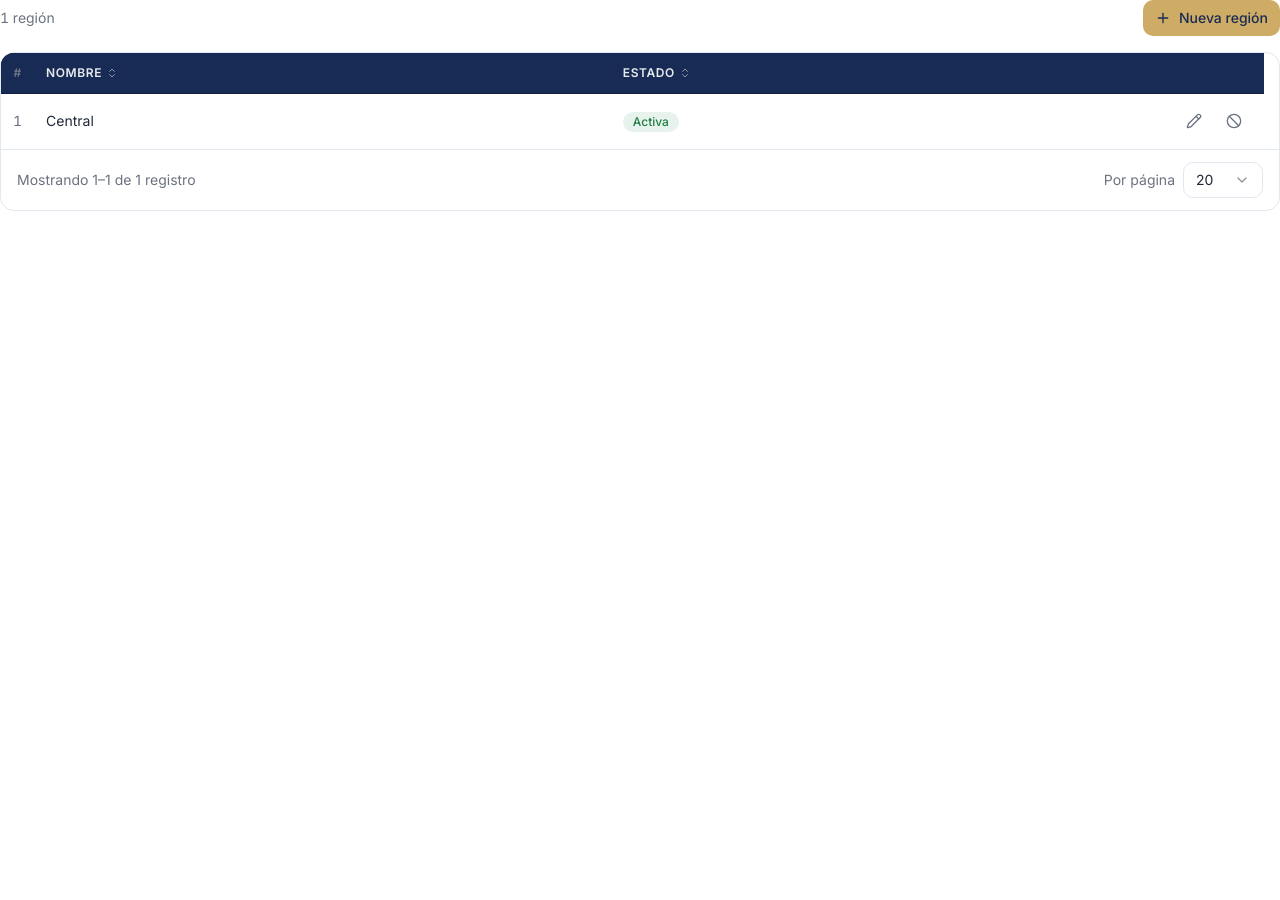
Test: GestionRegiones › edita la región, refresca la lista y cierra el modal
Click the button named "Editar" at (1194, 121), box [1176,103,1212,139]
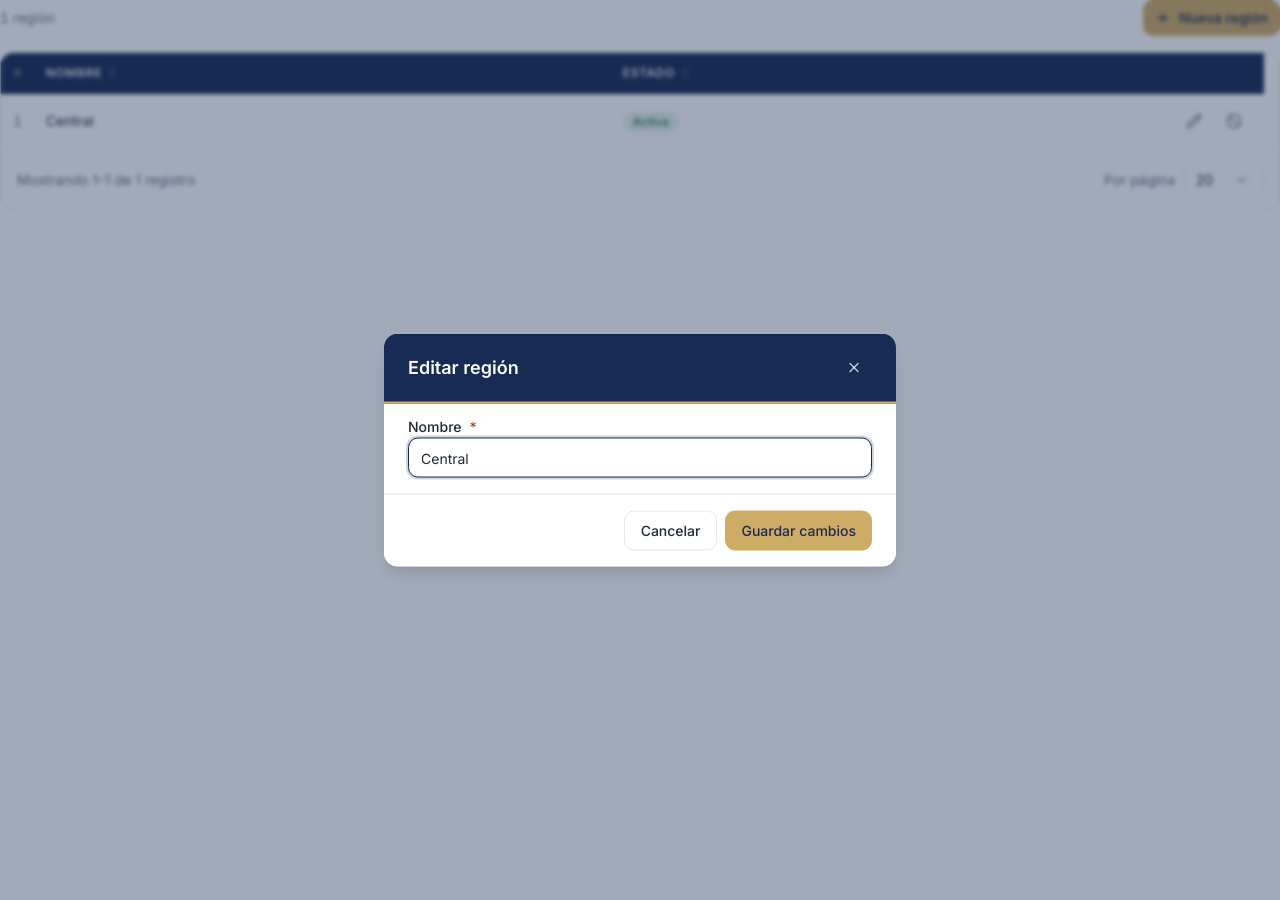
Result: the field labelled "Nombre *" holds "Central"
Replace the text in the field labelled "Nombre *" with "Central Norte" at (640, 458), box [408,438,872,478]
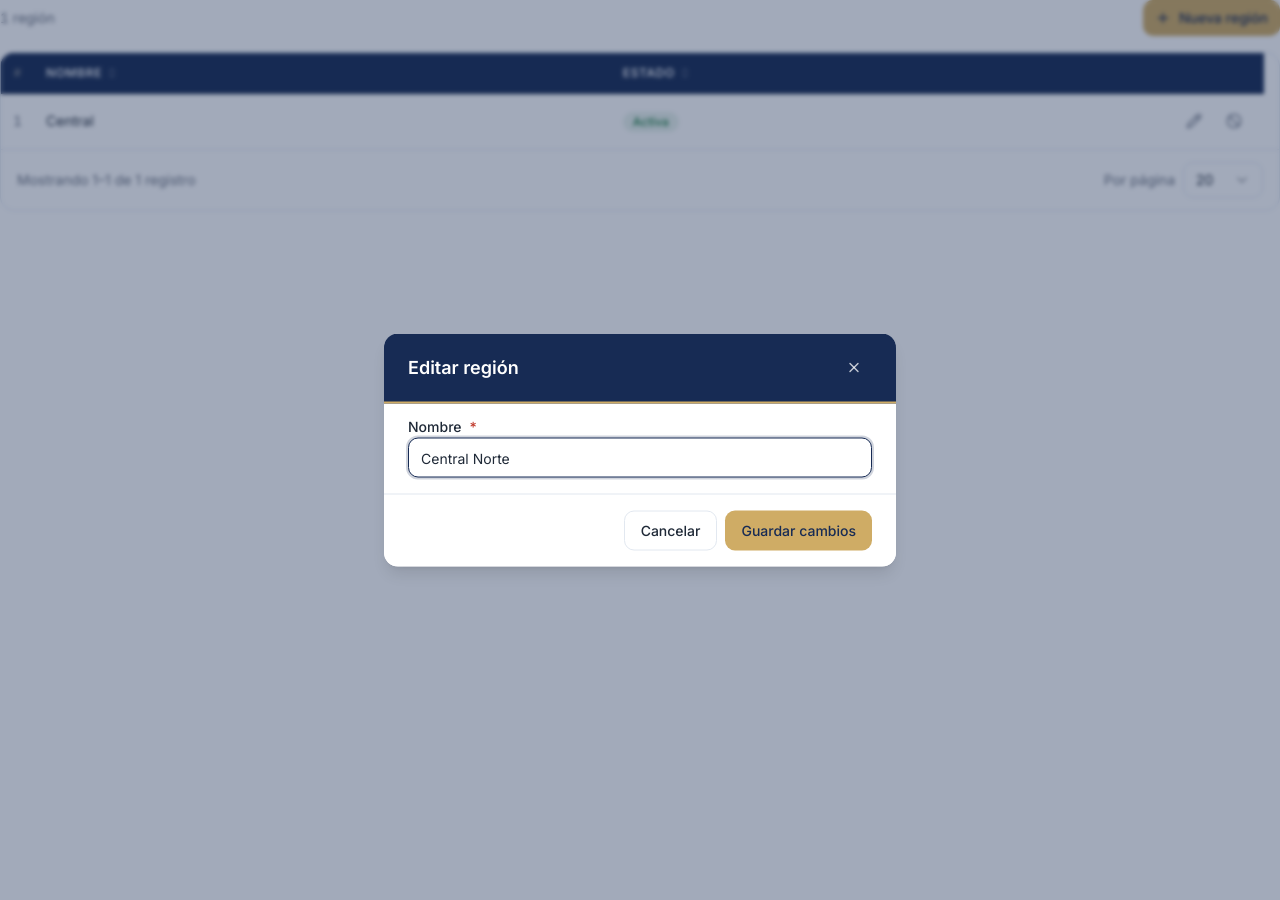
Click the button "Guardar cambios" at (799, 530), box [726,510,872,550]
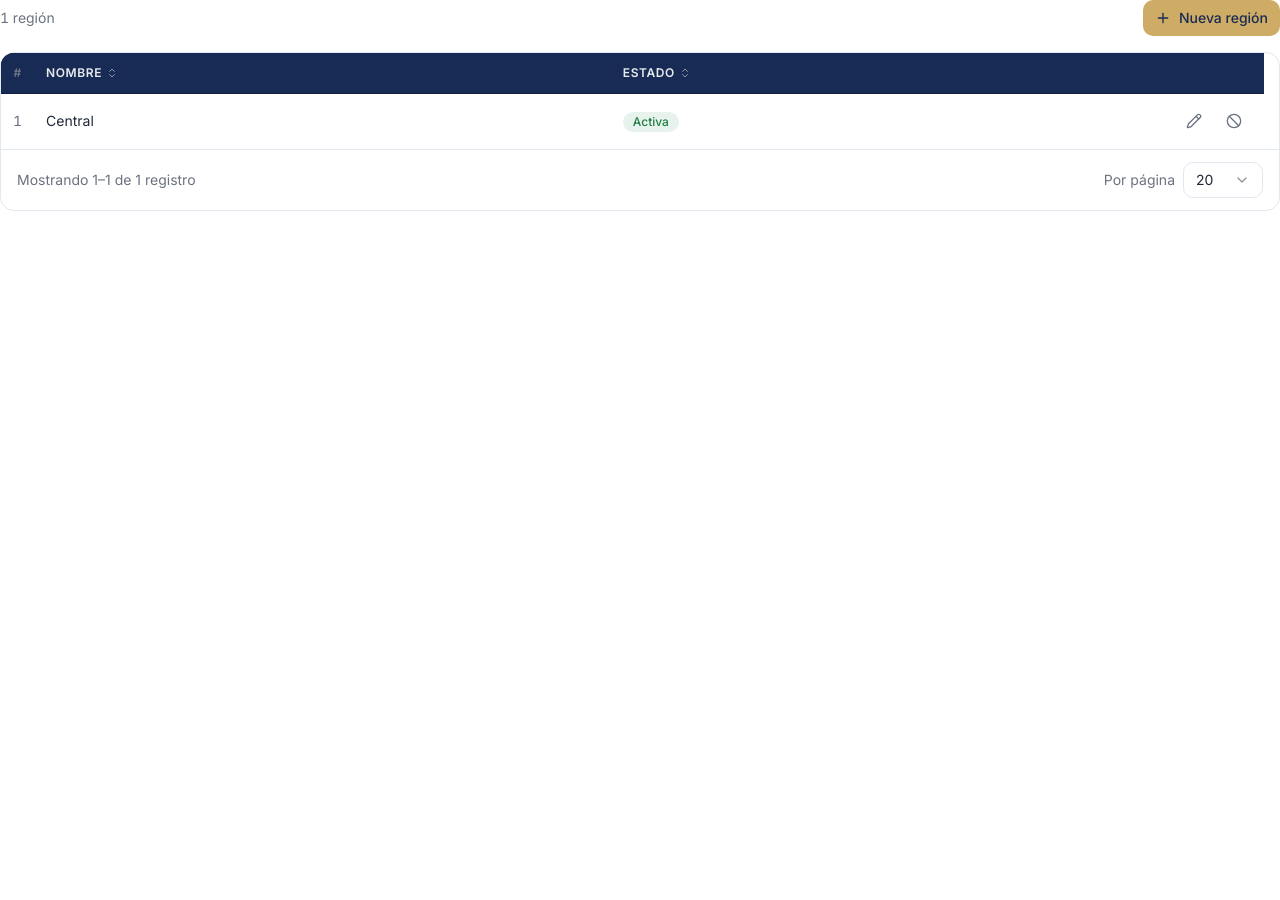
Result: the dialog is gone
